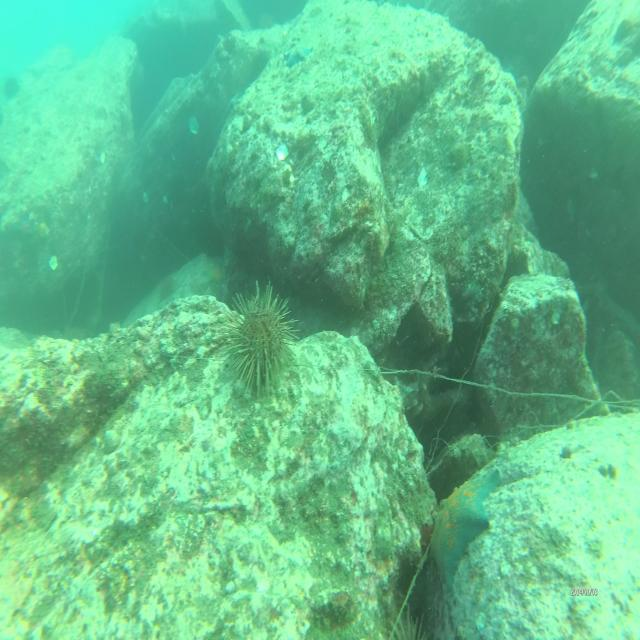echinus: (228, 288, 294, 396)
starfish: (432, 471, 501, 588), (281, 46, 312, 66)
